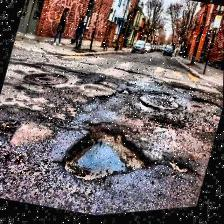pothole: (57, 111, 159, 201), (190, 96, 222, 118), (166, 156, 192, 180), (0, 118, 20, 138), (120, 89, 132, 99)
